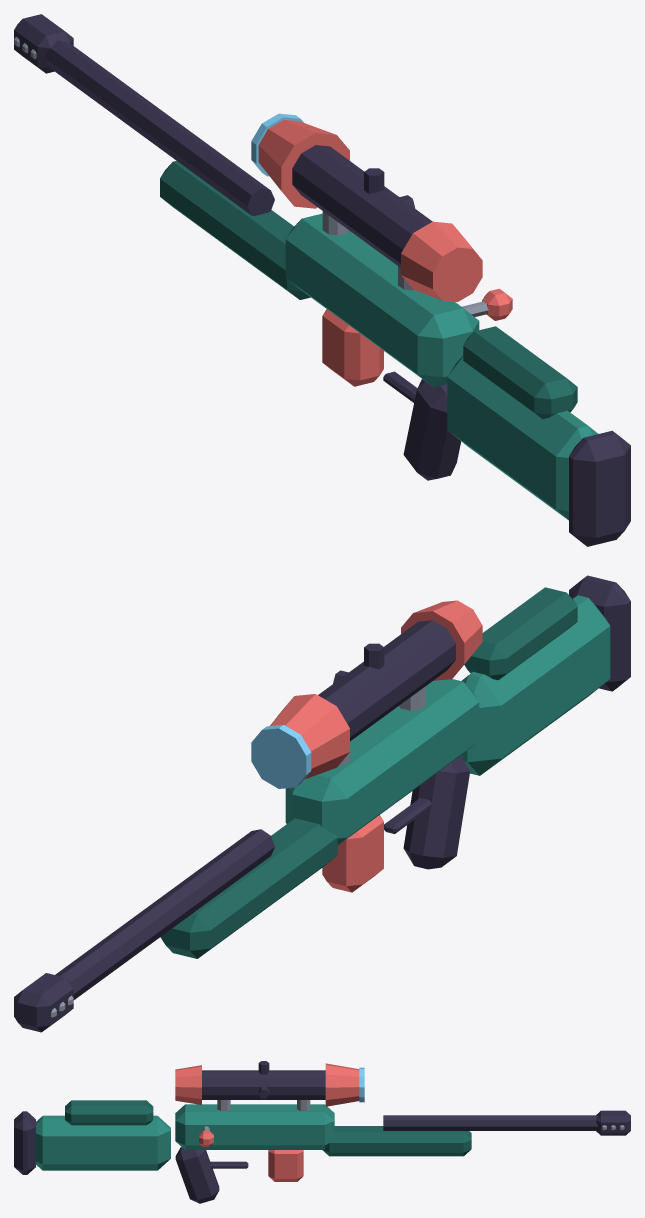
The model's file is awp.glb.
3 renders of one model, top to bottom at view 1: azimuth 30°, elevation 25°; view 2: azimuth 150°, elevation 25°; view 3: azimuth 270°, elevation 25°, orthographic. The views are drawn at different scales.
Parts seen in each view (by area): view 1: _MeshInstance3D_778, _MeshInstance3D_775, _MeshInstance3D_780, _MeshInstance3D_785, _MeshInstance3D_779, _MeshInstance3D_776, _MeshInstance3D_777, _MeshInstance3D_787, Grip, _MeshInstance3D_786, _MeshInstance3D_797, _MeshInstance3D_781; view 2: _MeshInstance3D_778, _MeshInstance3D_775, _MeshInstance3D_779, _MeshInstance3D_780, _MeshInstance3D_785, _MeshInstance3D_777, Grip, _MeshInstance3D_786, _MeshInstance3D_776, _MeshInstance3D_788, _MeshInstance3D_797, _MeshInstance3D_787 (+2 smaller); view 3: _MeshInstance3D_778, _MeshInstance3D_775, _MeshInstance3D_779, _MeshInstance3D_785, _MeshInstance3D_780, _MeshInstance3D_777, Grip, _MeshInstance3D_786, _MeshInstance3D_776, _MeshInstance3D_797, _MeshInstance3D_787, _MeshInstance3D_781 (+2 smaller).
Boxes of the visible parts, x1=… form: _MeshInstance3D_778: x1=285, y1=213, x2=479, y2=386; _MeshInstance3D_775: x1=447, y1=355, x2=597, y2=520; _MeshInstance3D_780: x1=44, y1=40, x2=274, y2=215; _MeshInstance3D_785: x1=292, y1=145, x2=432, y2=267; _MeshInstance3D_779: x1=160, y1=161, x2=310, y2=299; _MeshInstance3D_776: x1=569, y1=430, x2=630, y2=546; _MeshInstance3D_777: x1=463, y1=326, x2=577, y2=419; _MeshInstance3D_787: x1=401, y1=221, x2=482, y2=301; Grip: x1=403, y1=379, x2=461, y2=480; _MeshInstance3D_786: x1=258, y1=119, x2=349, y2=208; _MeshInstance3D_797: x1=322, y1=309, x2=383, y2=386; _MeshInstance3D_781: x1=14, y1=14, x2=73, y2=73; _MeshInstance3D_778: x1=285, y1=679, x2=479, y2=845; _MeshInstance3D_775: x1=461, y1=595, x2=610, y2=775; _MeshInstance3D_779: x1=160, y1=818, x2=337, y2=958; _MeshInstance3D_780: x1=55, y1=829, x2=274, y2=999; _MeshInstance3D_785: x1=318, y1=620, x2=455, y2=741; _MeshInstance3D_777: x1=464, y1=587, x2=577, y2=680; Grip: x1=403, y1=755, x2=470, y2=869; _MeshInstance3D_786: x1=270, y1=694, x2=349, y2=779; _MeshInstance3D_776: x1=569, y1=575, x2=630, y2=691; _MeshInstance3D_788: x1=251, y1=724, x2=311, y2=788; _MeshInstance3D_797: x1=322, y1=815, x2=383, y2=892; _MeshInstance3D_787: x1=401, y1=600, x2=482, y2=680; _MeshInstance3D_778: x1=175, y1=1104, x2=334, y2=1149; _MeshInstance3D_775: x1=35, y1=1115, x2=170, y2=1170; _MeshInstance3D_779: x1=322, y1=1126, x2=471, y2=1156; _MeshInstance3D_785: x1=202, y1=1070, x2=325, y2=1099; _MeshInstance3D_780: x1=383, y1=1115, x2=598, y2=1130; _MeshInstance3D_777: x1=65, y1=1100, x2=153, y2=1125; Grip: x1=175, y1=1147, x2=219, y2=1203; _MeshInstance3D_786: x1=325, y1=1063, x2=359, y2=1106; _MeshInstance3D_776: x1=14, y1=1111, x2=35, y2=1174; _MeshInstance3D_797: x1=268, y1=1150, x2=303, y2=1181; _MeshInstance3D_787: x1=175, y1=1065, x2=201, y2=1104; _MeshInstance3D_781: x1=596, y1=1110, x2=630, y2=1135.
Size of the model in its own units: 0.1596 by 0.3468 by 1.39.
